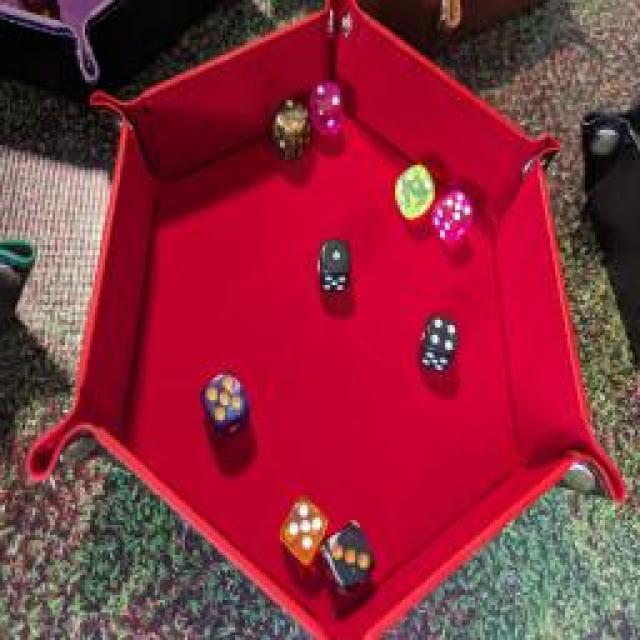dice_1: (314, 235, 354, 293)
dice_2: (270, 94, 310, 164), (394, 161, 434, 224), (310, 75, 345, 137)
dice_3: (320, 515, 380, 593)
dice_4: (412, 312, 462, 370)
dice_5: (198, 368, 252, 434), (277, 491, 325, 561), (430, 182, 475, 248)
